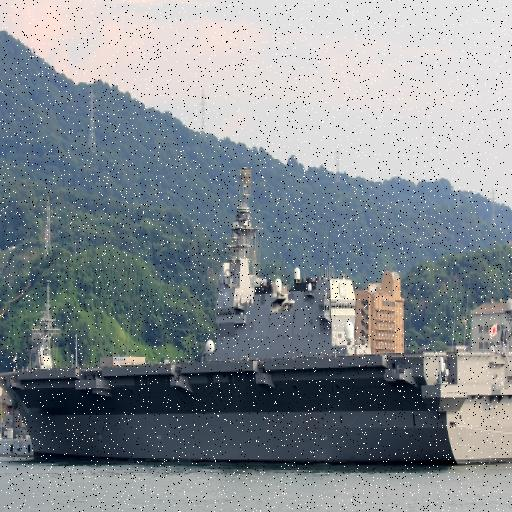Portanaves: (1, 160, 512, 469)
